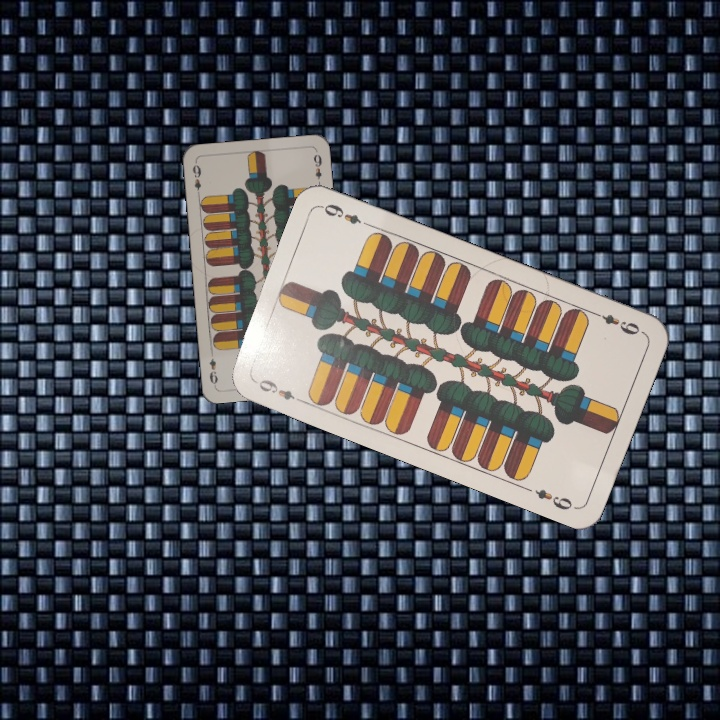E9: (589, 307, 646, 338), (254, 375, 307, 406), (189, 161, 204, 199)
